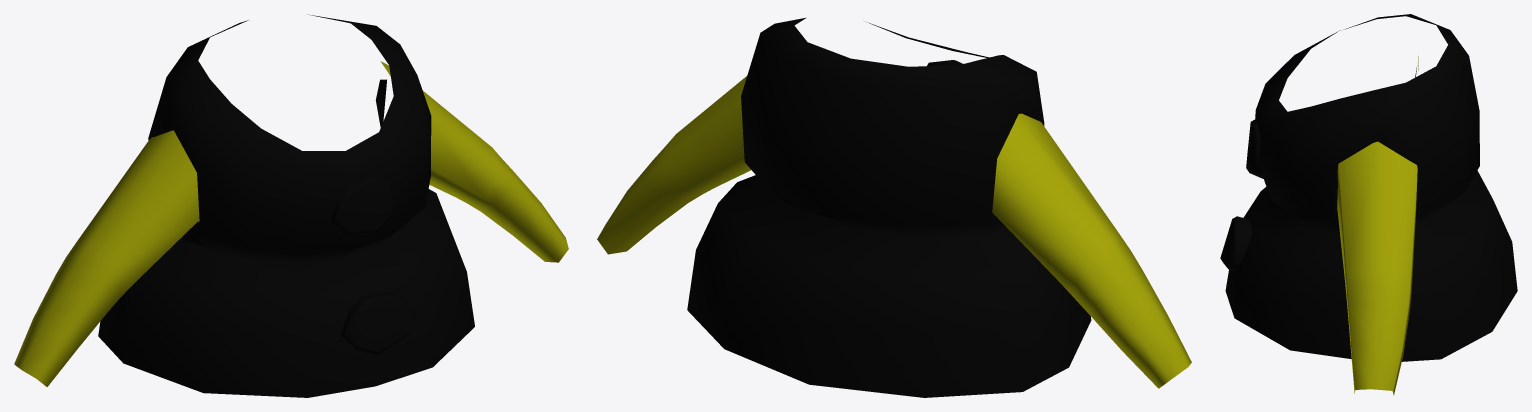
The model's file is torso_331.glb.
The picture shows the model from 3 angles, left to right: view 1: azimuth 30°, elevation 25°; view 2: azimuth 150°, elevation 25°; view 3: azimuth 270°, elevation 25°; orthographic projection. The views are drawn at different scales.
Visible parts, largest first — view 1: torso; view 2: torso; view 3: torso.
Part boxes in pixels (<box>): torso: <box>14,14,568,397</box>; torso: <box>597,17,1191,397</box>; torso: <box>1220,14,1517,395</box>.
Size of the model in its own units: 0.7628 by 0.3695 by 0.4043.
